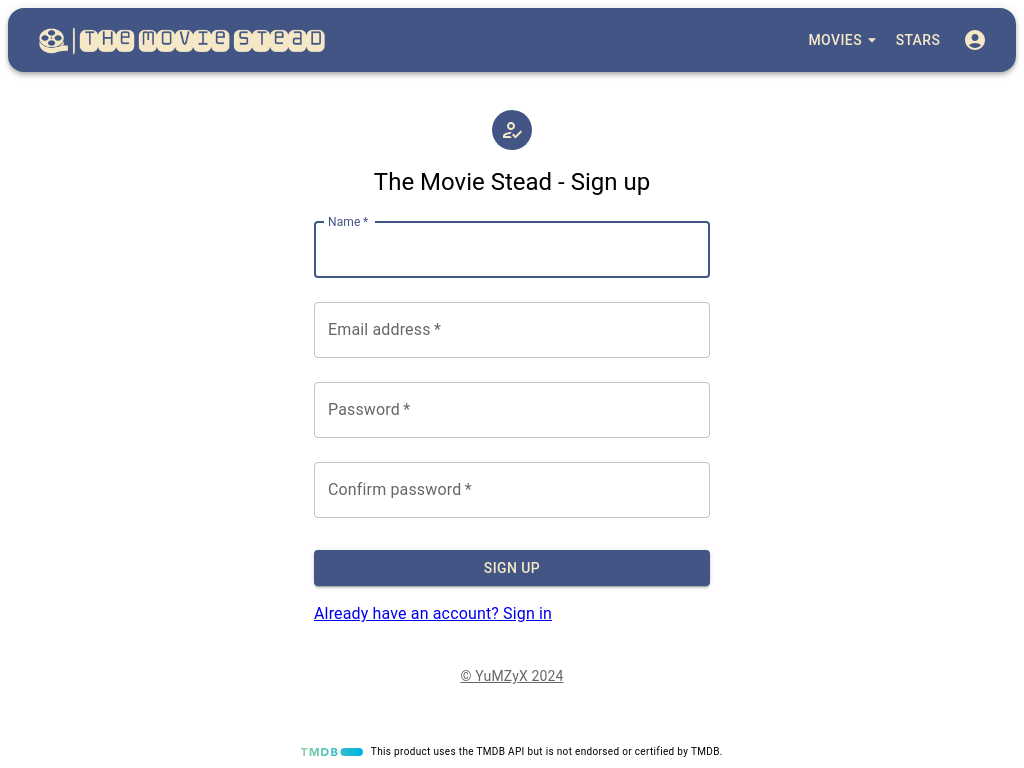
it: Sign Up › Sign Up › fails if passwords do not match
Step 1. Type "Test User" into the field with id "name" → (512, 250), box [314,222,710,278]
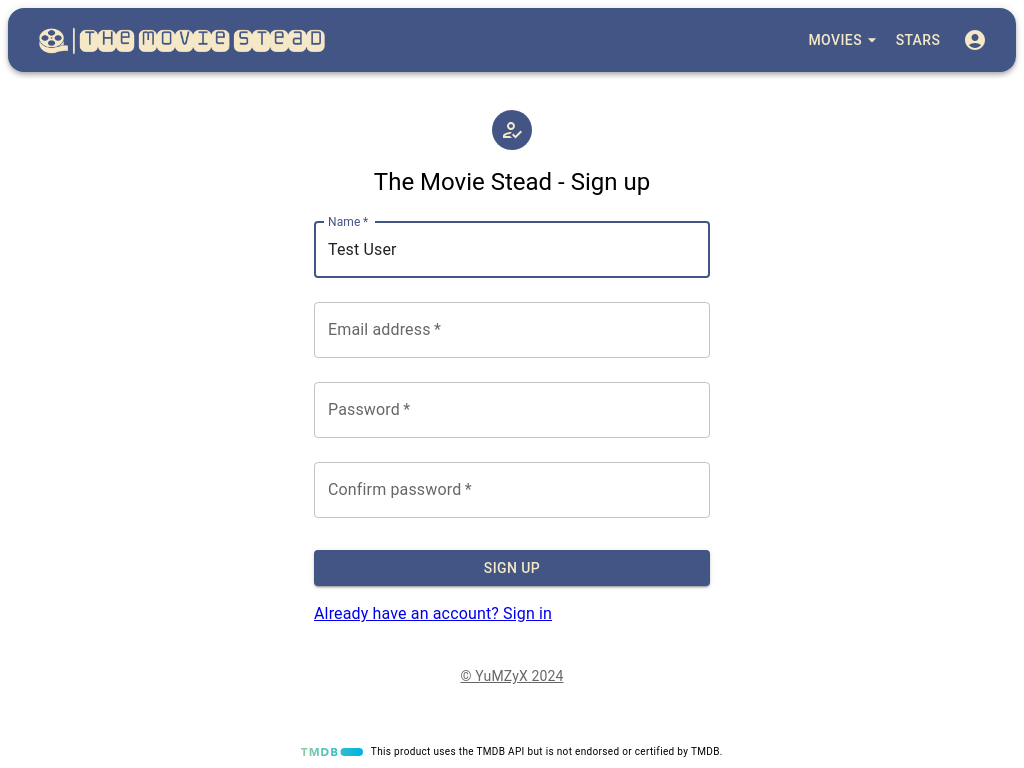
Step 2. Type "test.user@gmail.com" into the field with id "email" → (512, 330), box [314,302,710,358]
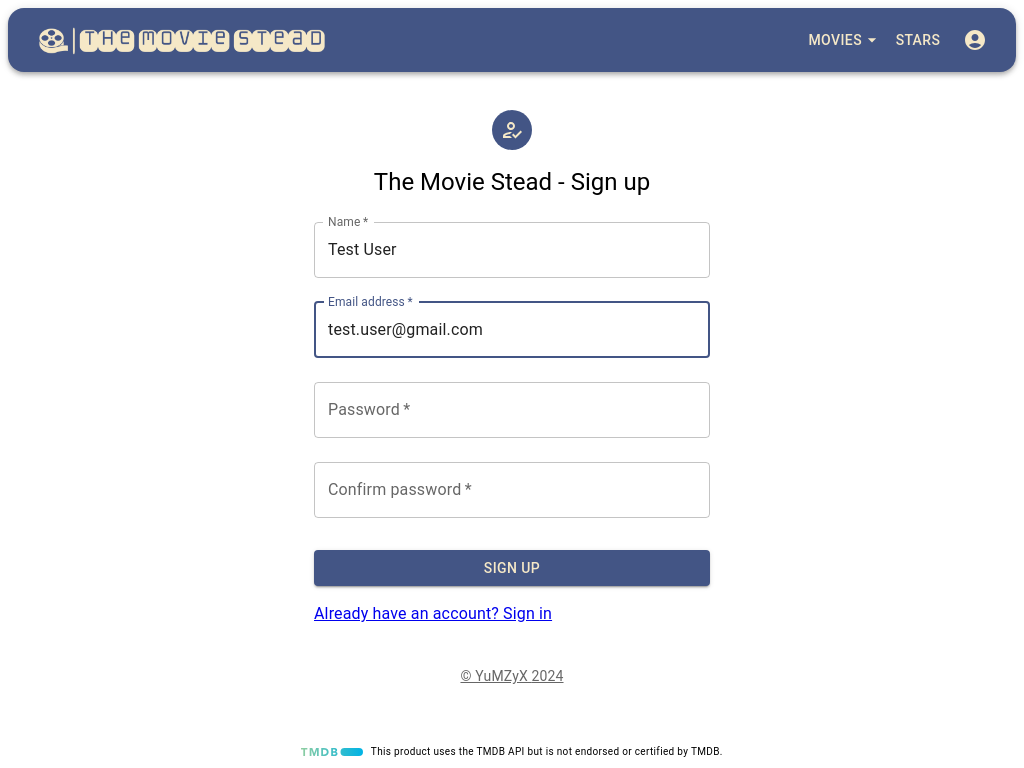
Step 3. Type "password" into the password field labelled "Password *" → (512, 410), box [314,382,710,438]
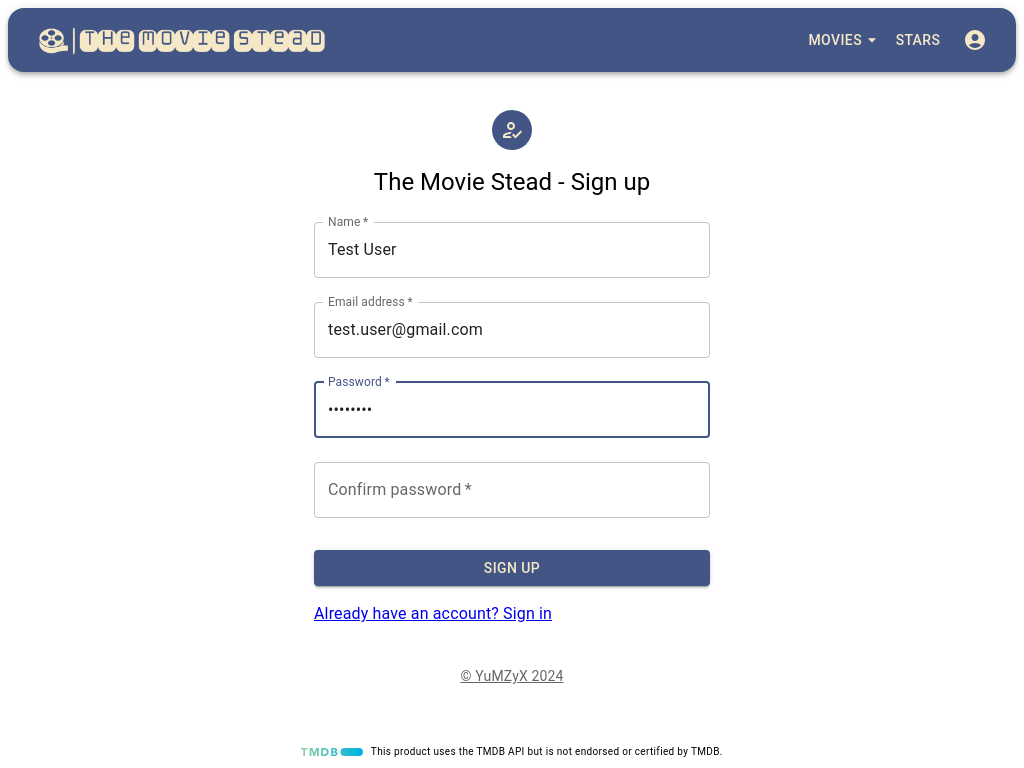
Step 4. Type "passwor" into the password field labelled "Confirm password *" → (512, 490), box [314,462,710,518]
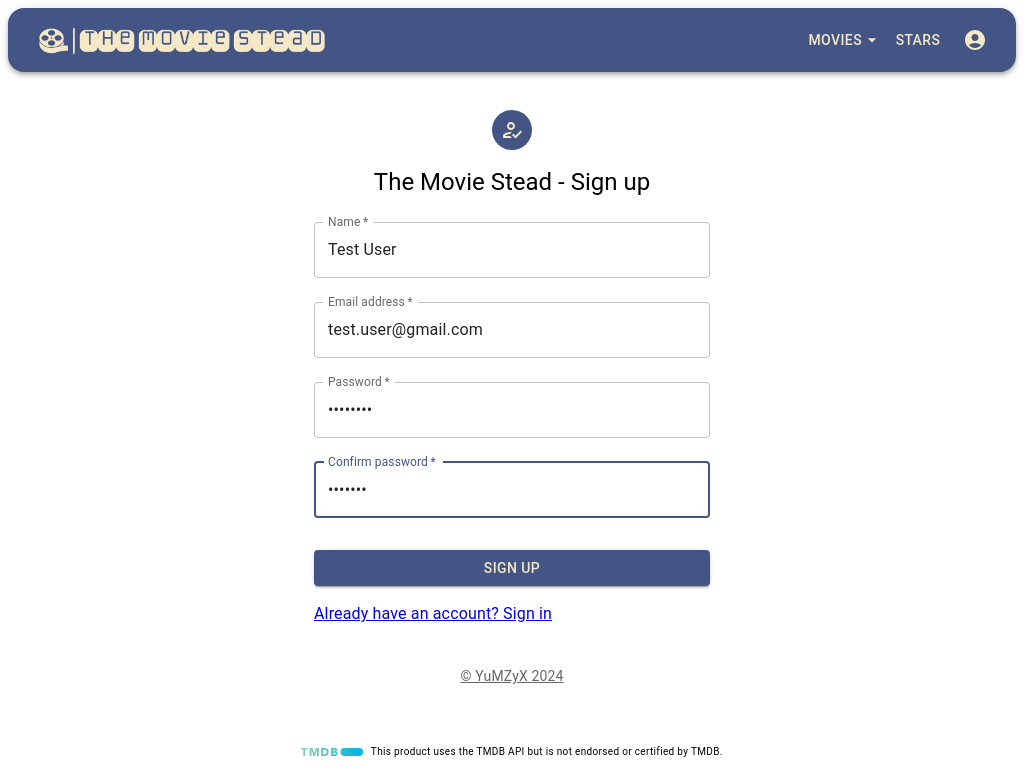
Step 5. Click the button with id "signup-button" → (512, 569), box [314,550,710,587]
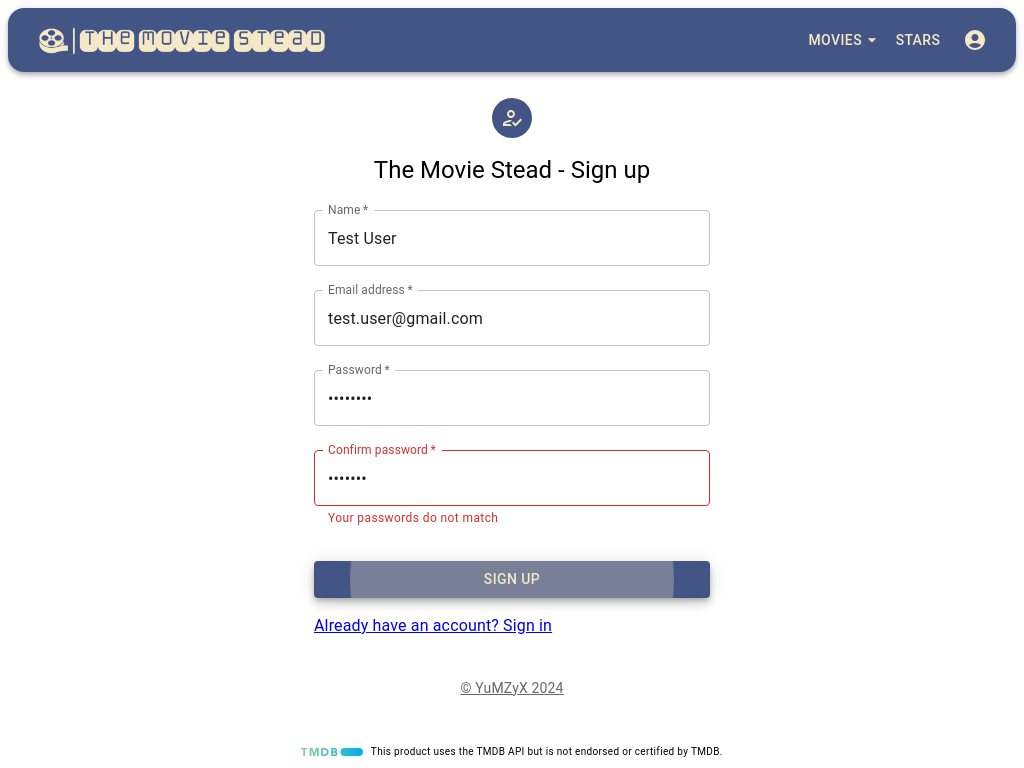
Expected: the text "Test User" is not shown
Now the text "Your passwords do not match" is shown, box [328,511,498,525]
